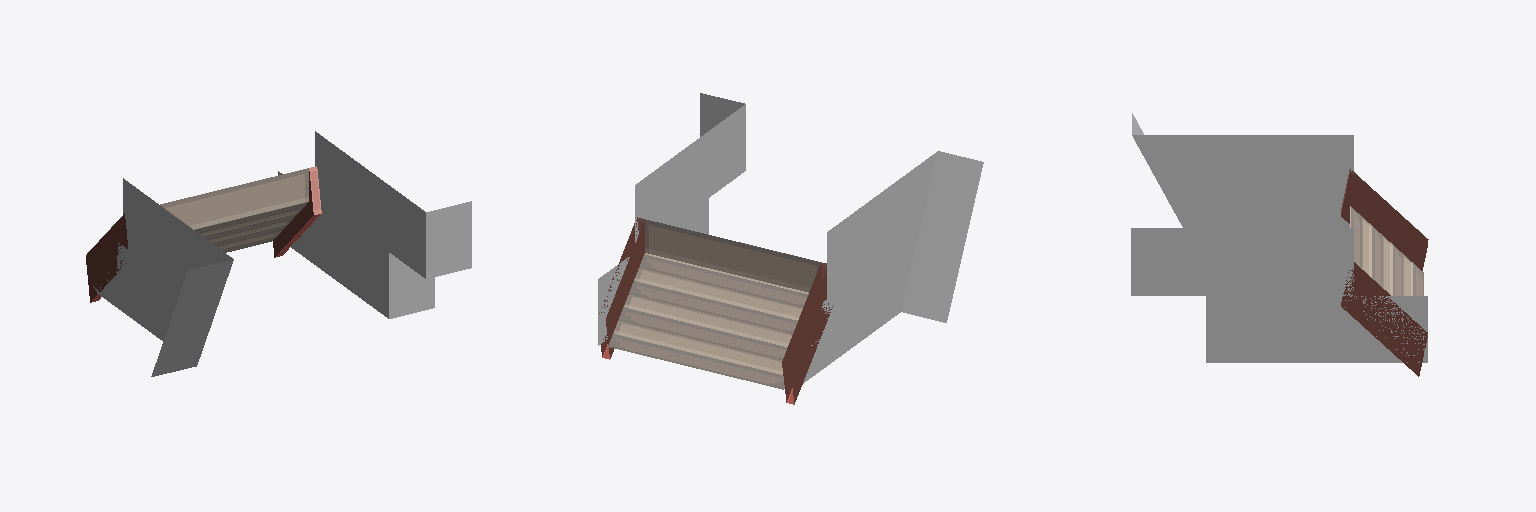
3 renders of one model, left to right at view 1: azimuth 30°, elevation 25°; view 2: azimuth 150°, elevation 25°; view 3: azimuth 270°, elevation 25°, orthographic.
Visible parts, largest first — view 1: map; view 2: map; view 3: map.
Part boxes in pixels (x1,y1,x2,y2): map: (86,131,471,376); map: (598,93,983,404); map: (1131,113,1428,376).
Bounding box in the file's own units: 4.43 × 2.22 × 4.01.
3 materials, 1 textured.